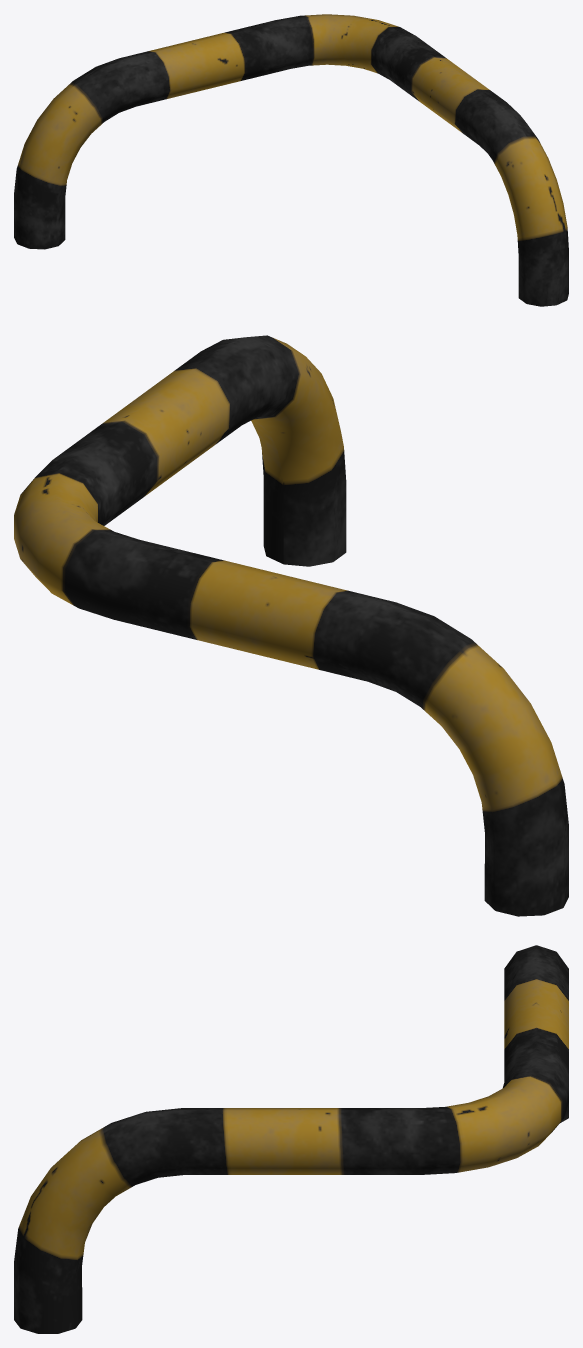
Rendered from RoadBarrier04.FBX.
3 renders of one model, top to bottom at view 1: azimuth 30°, elevation 25°; view 2: azimuth 150°, elevation 25°; view 3: azimuth 270°, elevation 25°, orthographic. The views are drawn at different scales.
Parts seen in each view (by area): view 1: RoadBarrier04; view 2: RoadBarrier04; view 3: RoadBarrier04.
Part boxes in pixels (left/top/right/bottom): RoadBarrier04: left=14, top=14, right=568, bottom=306; RoadBarrier04: left=14, top=335, right=568, bottom=916; RoadBarrier04: left=14, top=945, right=568, bottom=1333.
Size of the model in its own units: 28.87 by 12.02 by 28.87.
